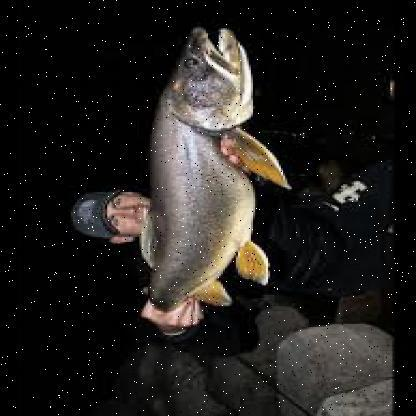fish: (138, 26, 288, 326)
